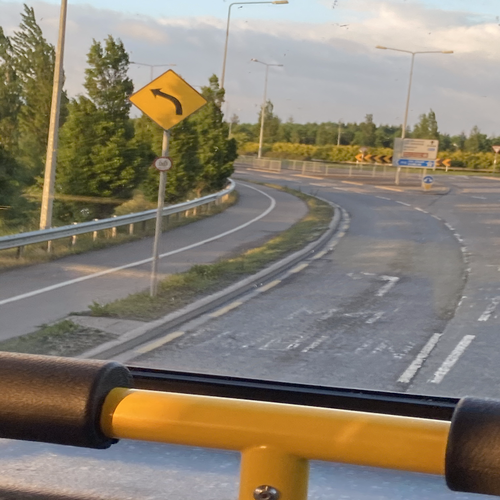Dangerous curve: (125, 70, 207, 126)
